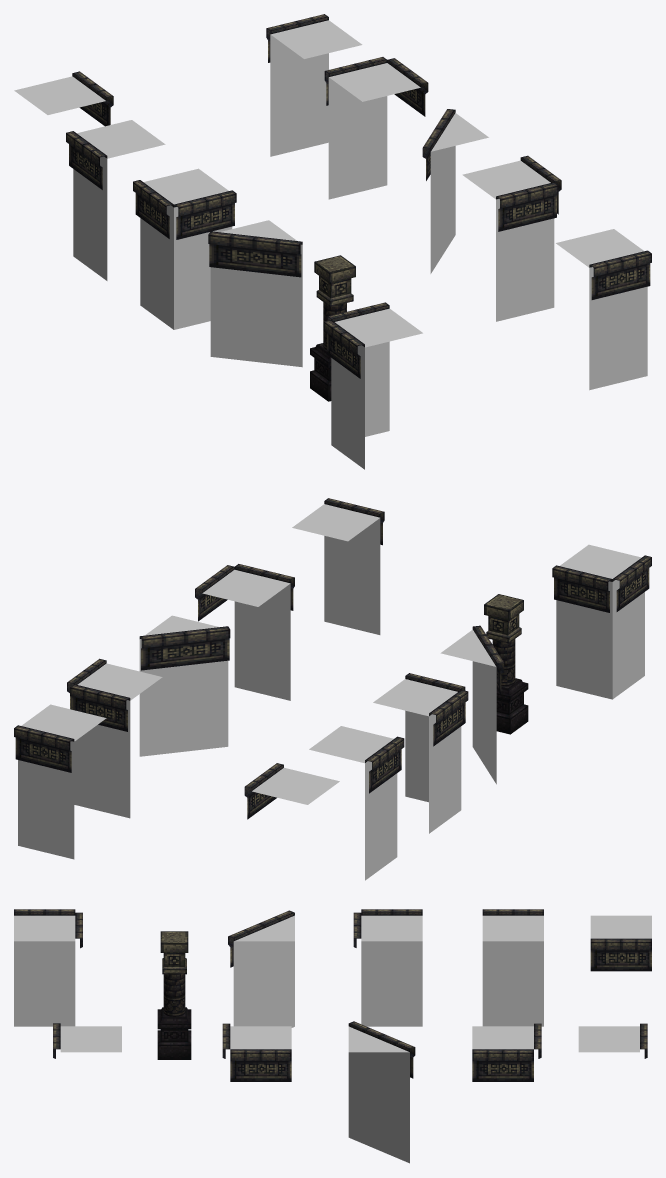
File: EnvMdrMD_Desert_A_GrdWall_A_BK.FBX
3 renders of one model, top to bottom at view 1: azimuth 30°, elevation 25°; view 2: azimuth 150°, elevation 25°; view 3: azimuth 270°, elevation 25°, orthographic. The views are drawn at different scales.
Visible parts, largest first — view 1: EnvMdrMD_Desert_A_GrdWall_A_SL_RF, EnvMdrMD_Desert_A_GrdWall_A_CoOut_RF, EnvMdrMD_Desert_A_GrdWall_A_CoOut_RB, EnvMdrMD_Desert_A_GrdWall_A_CoOut_LB, EnvMdrMD_Desert_A_GrdWall_A_RS, EnvMdrMD_Desert_A_GrdWall_A_CoOut_LF, EnvMdrMD_Desert_A_GrdWall_A_LS, EnvMdrMD_Desert_A_GrdWall_A_FR, EnvMdrMD_Desert_A_GrdWall_A_SL_LF, EnvMdrMD_Desert_A_GrdWall_A_Pillar_A, EnvMdrMD_Desert_A_GrdWall_A_BK; view 2: EnvMdrMD_Desert_A_GrdWall_A_CoOut_LF, EnvMdrMD_Desert_A_GrdWall_A_SL_LF, EnvMdrMD_Desert_A_GrdWall_A_LS, EnvMdrMD_Desert_A_GrdWall_A_CoOut_RB, EnvMdrMD_Desert_A_GrdWall_A_CoOut_LB, EnvMdrMD_Desert_A_GrdWall_A_CoOut_RF, EnvMdrMD_Desert_A_GrdWall_A_RS, EnvMdrMD_Desert_A_GrdWall_A_FR, EnvMdrMD_Desert_A_GrdWall_A_SL_RF, EnvMdrMD_Desert_A_GrdWall_A_Pillar_A, EnvMdrMD_Desert_A_GrdWall_A_BK; view 3: EnvMdrMD_Desert_A_GrdWall_A_CoOut_RF, EnvMdrMD_Desert_A_GrdWall_A_SL_LF, EnvMdrMD_Desert_A_GrdWall_A_CoOut_LF, EnvMdrMD_Desert_A_GrdWall_A_FR, EnvMdrMD_Desert_A_GrdWall_A_SL_RF, EnvMdrMD_Desert_A_GrdWall_A_Pillar_A, EnvMdrMD_Desert_A_GrdWall_A_CoOut_RB, EnvMdrMD_Desert_A_GrdWall_A_CoOut_LB, EnvMdrMD_Desert_A_GrdWall_A_BK, EnvMdrMD_Desert_A_GrdWall_A_LS, EnvMdrMD_Desert_A_GrdWall_A_RS.
Part boxes in pixels (x1,y1,x2,y2): EnvMdrMD_Desert_A_GrdWall_A_SL_RF: (208,220,302,367); EnvMdrMD_Desert_A_GrdWall_A_CoOut_RF: (133,168,236,329); EnvMdrMD_Desert_A_GrdWall_A_CoOut_RB: (462,155,561,321); EnvMdrMD_Desert_A_GrdWall_A_CoOut_LB: (324,57,428,199); EnvMdrMD_Desert_A_GrdWall_A_RS: (556,229,651,390); EnvMdrMD_Desert_A_GrdWall_A_CoOut_LF: (324,302,422,469); EnvMdrMD_Desert_A_GrdWall_A_LS: (266,14,362,156); EnvMdrMD_Desert_A_GrdWall_A_FR: (66,120,165,280); EnvMdrMD_Desert_A_GrdWall_A_SL_LF: (422,109,488,273); EnvMdrMD_Desert_A_GrdWall_A_Pillar_A: (310,255,355,401); EnvMdrMD_Desert_A_GrdWall_A_BK: (14,71,113,126); EnvMdrMD_Desert_A_GrdWall_A_CoOut_LF: (552,544,651,699); EnvMdrMD_Desert_A_GrdWall_A_SL_LF: (139,615,230,756); EnvMdrMD_Desert_A_GrdWall_A_LS: (14,704,106,859); EnvMdrMD_Desert_A_GrdWall_A_CoOut_RB: (195,564,294,700); EnvMdrMD_Desert_A_GrdWall_A_CoOut_LB: (67,658,162,818); EnvMdrMD_Desert_A_GrdWall_A_CoOut_RF: (373,673,468,833); EnvMdrMD_Desert_A_GrdWall_A_RS: (292,498,384,634); EnvMdrMD_Desert_A_GrdWall_A_FR: (309,726,404,880); EnvMdrMD_Desert_A_GrdWall_A_SL_RF: (440,625,504,784); EnvMdrMD_Desert_A_GrdWall_A_Pillar_A: (484,594,528,734); EnvMdrMD_Desert_A_GrdWall_A_BK: (244,763,339,819); EnvMdrMD_Desert_A_GrdWall_A_CoOut_RF: (353,909,422,1026); EnvMdrMD_Desert_A_GrdWall_A_SL_LF: (348,1021,415,1163); EnvMdrMD_Desert_A_GrdWall_A_CoOut_LF: (14,909,82,1026); EnvMdrMD_Desert_A_GrdWall_A_FR: (482,909,543,1026); EnvMdrMD_Desert_A_GrdWall_A_SL_RF: (228,910,294,1027); EnvMdrMD_Desert_A_GrdWall_A_Pillar_A: (157,931,191,1059); EnvMdrMD_Desert_A_GrdWall_A_CoOut_RB: (222,1023,291,1081); EnvMdrMD_Desert_A_GrdWall_A_CoOut_LB: (472,1023,541,1081); EnvMdrMD_Desert_A_GrdWall_A_BK: (590,915,651,971); EnvMdrMD_Desert_A_GrdWall_A_LS: (578,1023,647,1058); EnvMdrMD_Desert_A_GrdWall_A_RS: (53,1023,121,1058).
Bounding box in the file's own units: 1104 × 415 × 2079.
